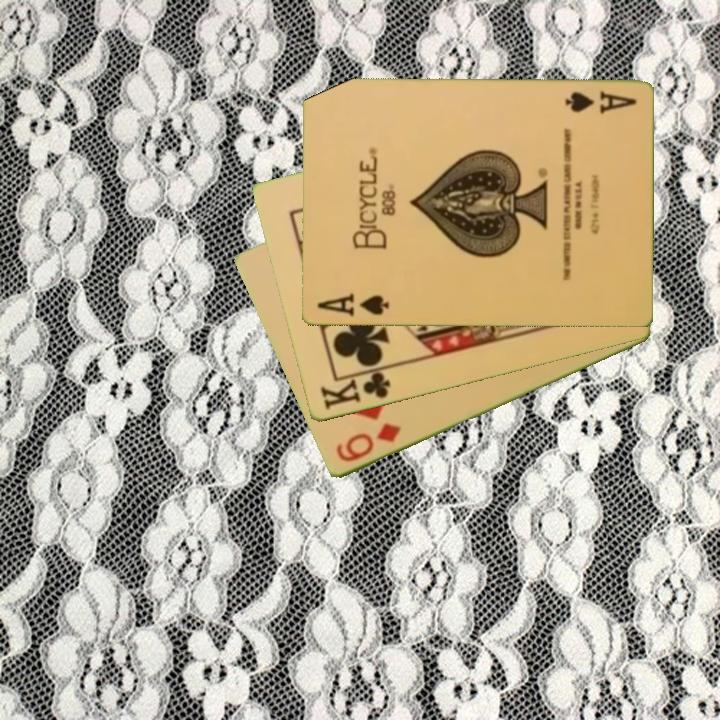6d: (332, 420, 404, 466)
As: (313, 290, 392, 320), (561, 88, 639, 118)
Kc: (316, 364, 394, 413)
